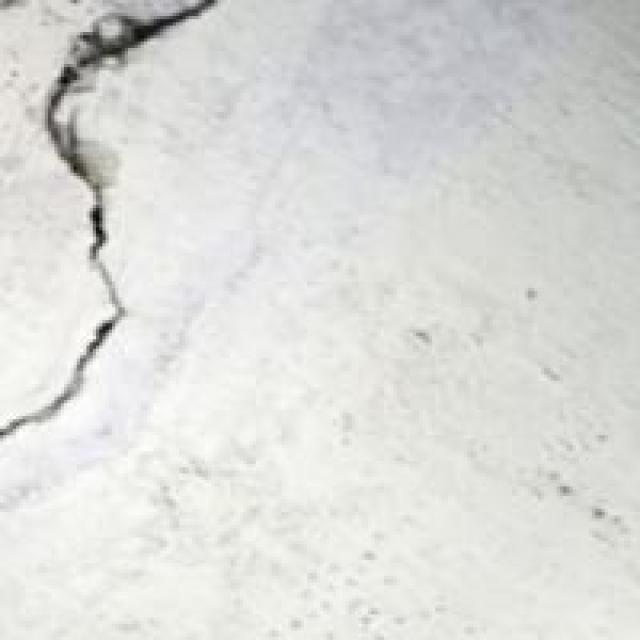crack: (0, 0, 227, 458)
